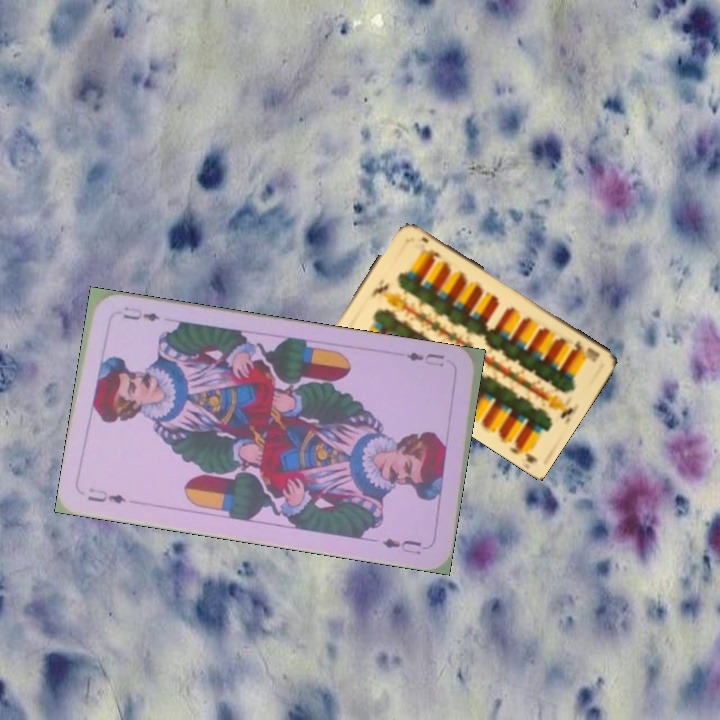E10: (568, 336, 602, 365)
EU: (83, 484, 129, 507), (403, 348, 447, 370)
